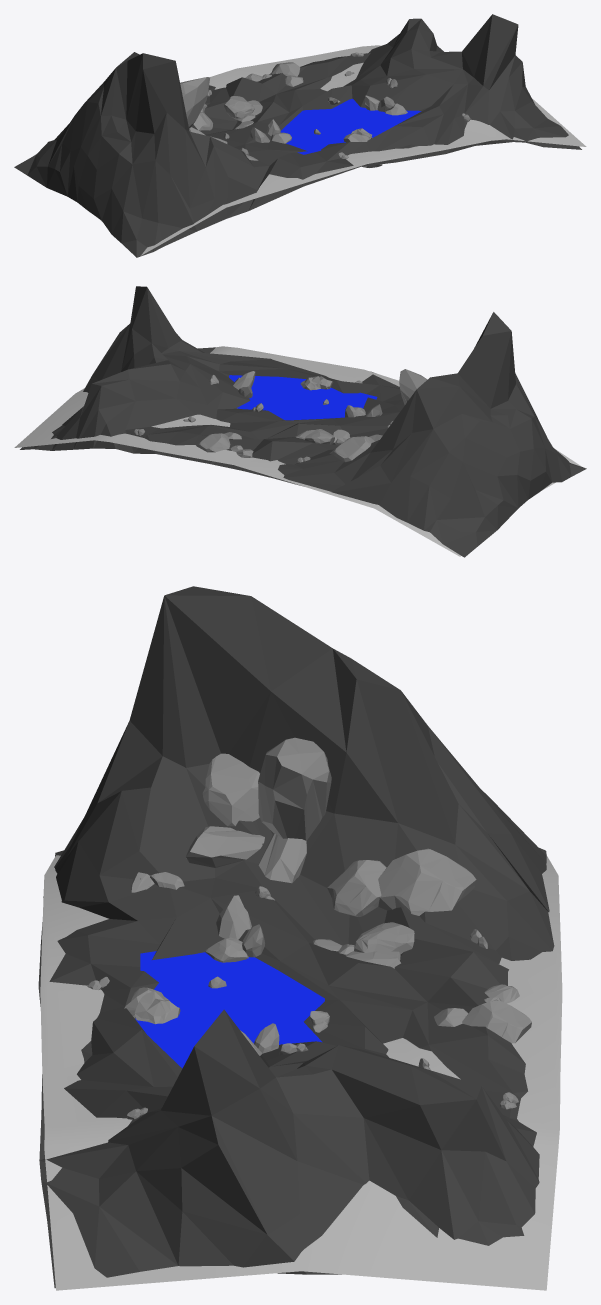
Rendered from Tal_11.FBX.
3 renders of one model, top to bottom at view 1: azimuth 30°, elevation 25°; view 2: azimuth 150°, elevation 25°; view 3: azimuth 270°, elevation 25°, orthographic. The views are drawn at different scales.
Visible parts, largest first — view 1: Sphere102; view 2: Sphere102; view 3: Sphere102.
Boxes of the visible parts, x1=… form: Sphere102: x1=14, y1=14, x2=586, y2=257; Sphere102: x1=14, y1=286, x2=586, y2=557; Sphere102: x1=38, y1=586, x2=562, y2=1290.
Bounding box in the file's own units: 45.81 × 15.67 × 23.03.
